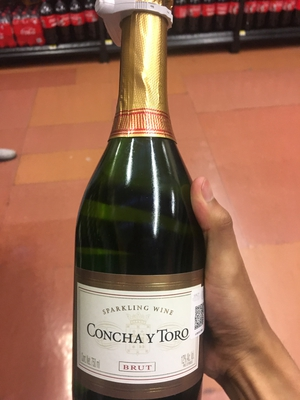brut: (66, 7, 216, 400)
